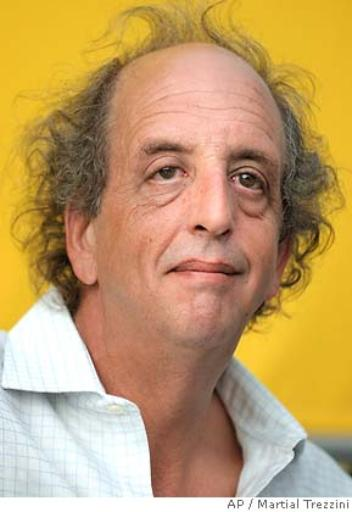left_eye: (231, 171, 266, 196)
left_lip_corner: (234, 268, 247, 285)
right_eye: (145, 164, 189, 187)
right_lip_corner: (162, 264, 177, 281)
